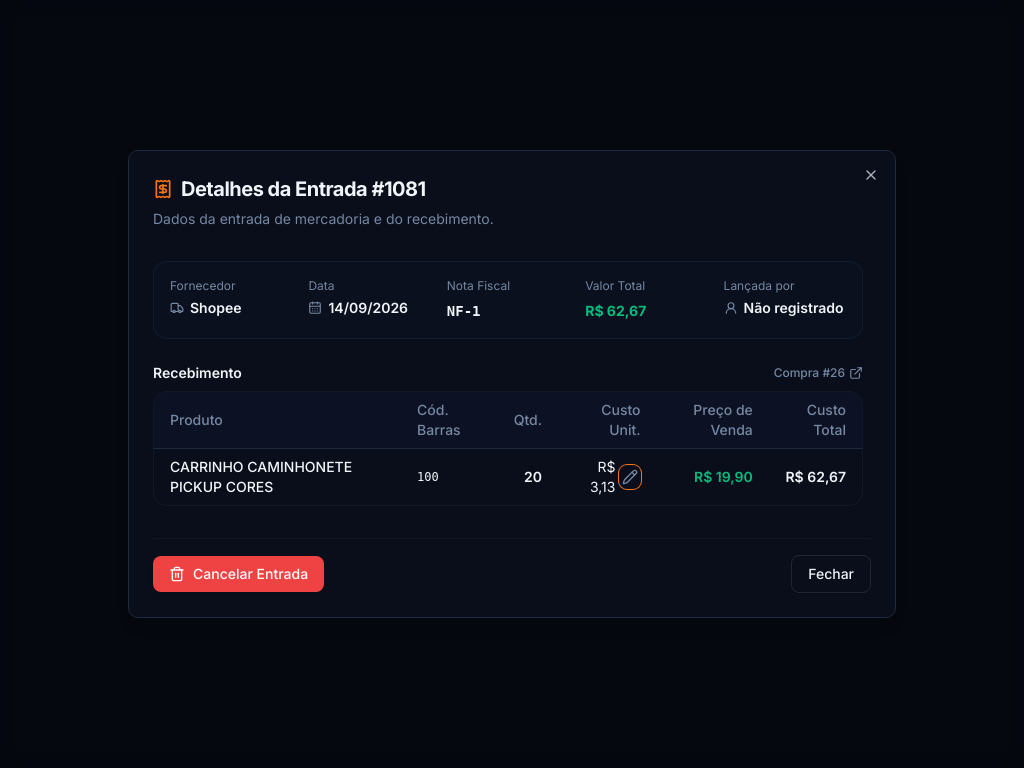
Test case: StockEntryDetailsModal › correção do custo › campo apagado não vira custo zero
Click the button named "Corrigir o custo de CARRINHO" at x=630, y=477, box [619,465,641,489]
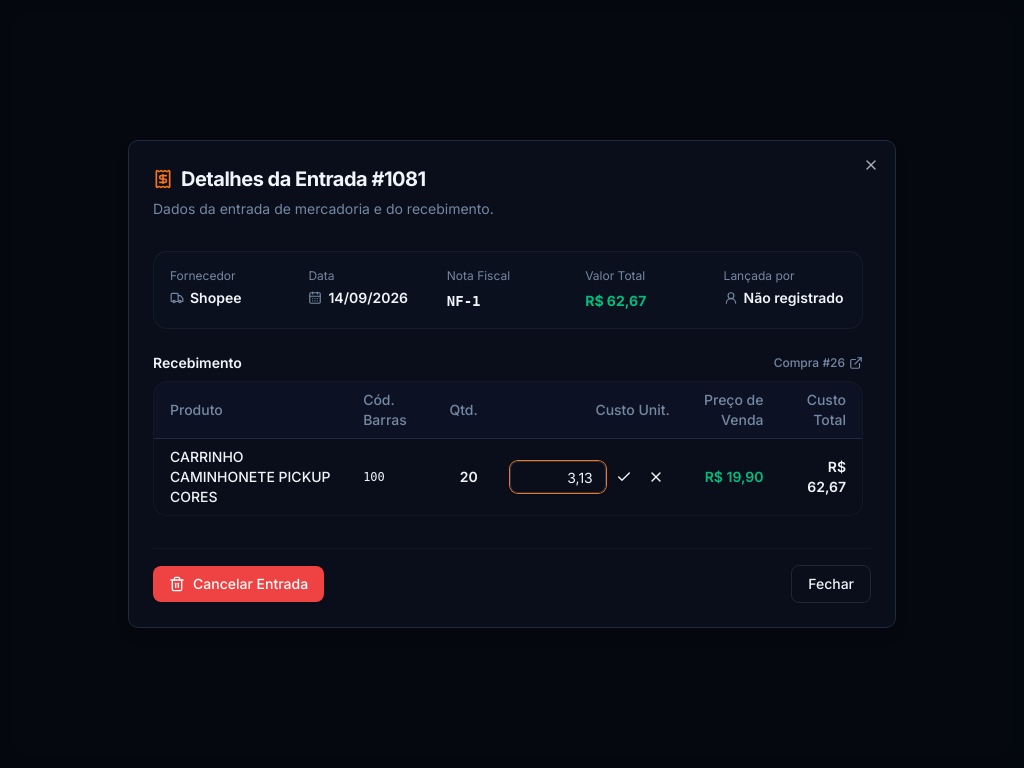
Clear the field named "Novo custo unitário" at x=558, y=477, box [510,461,606,493]
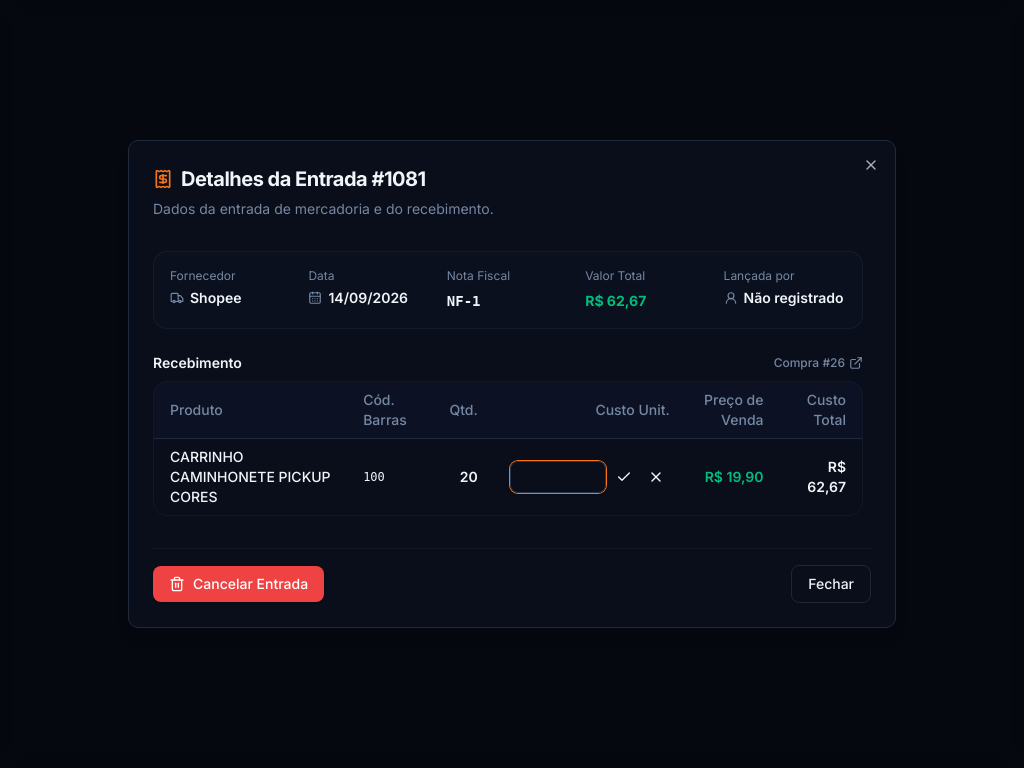
Click the button named "Confirmar o novo custo" at x=624, y=477, box [610,463,638,491]
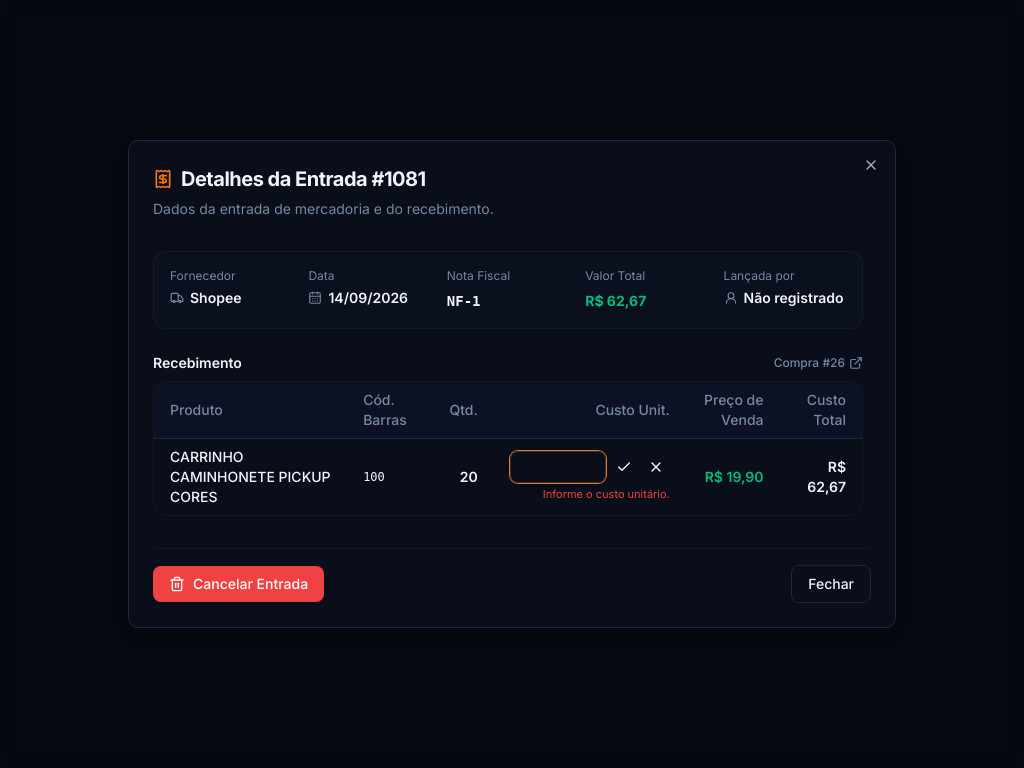
Result: the text "Informe o custo unitário." is shown at [543,487,670,503]
